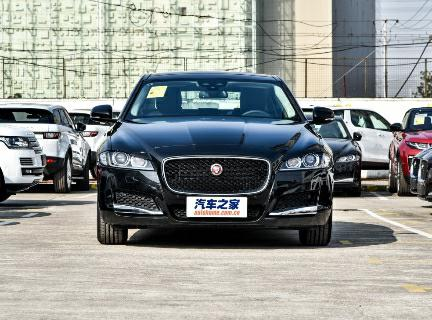捷豹-XFL: (88, 65, 341, 258)
